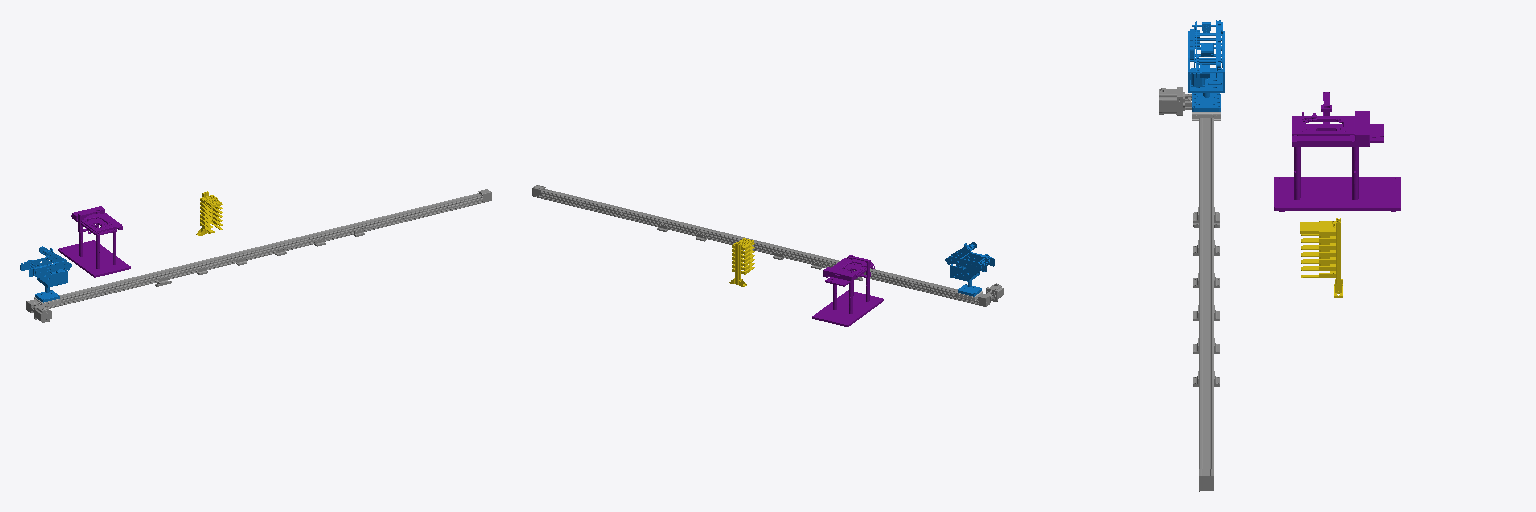
robot.urdf — SimulatedLab:
<?xml version="1.0" encoding="utf-8"?>
<!-- This URDF was automatically created by SolidWorks to URDF Exporter! Originally created by [author] ([email redacted]) 
     Commit Version: 1.6.0-4-g7f85cfe  Build Version: 1.6.7995.38578
     For more information, please see http://wiki.ros.org/sw_urdf_exporter -->
<robot
  name="SimulatedLab">
  <link
    name="OpticalTable">
    <inertial>
      <origin
        xyz="0.90651 -0.06459 1.1186"
        rpy="0 0 0" />
      <mass
        value="199.39" />
      <inertia
        ixx="10.566"
        ixy="2.822E-10"
        ixz="-1.278E-10"
        iyy="52.367"
        iyz="-7.1305E-12"
        izz="42.992" />
    </inertial>
    <visual>
      <origin
        xyz="0 0 0"
        rpy="0 0 0" />
      <geometry>
        <mesh
          filename="package://SimulatedLab/meshes/OpticalTable.STL" />
      </geometry>
      <material name="OpticalTableColor">
        <color rgba="0.8 0.8 0.8 1" />
      </material>
    </visual>
    <collision>
      <origin
        xyz="0 0 0"
        rpy="0 0 0" />
      <geometry>
        <mesh
          filename="package://SimulatedLab/meshes/OpticalTable.STL" />
      </geometry>
    </collision>
  </link>
  <link
    name="SlideRail">
    <inertial>
      <origin
        xyz="0.0092792 -0.043093 0.60802"
        rpy="0 0 0" />
      <mass
        value="9.3221" />
      <inertia
        ixx="7.2203"
        ixy="6.5868E-06"
        ixz="2.4777E-07"
        iyy="7.2215"
        iyz="-2.2278E-08"
        izz="0.0048847" />
    </inertial>
    <visual>
      <origin
        xyz="0 0 0"
        rpy="0 0 0" />
      <geometry>
        <mesh
          filename="package://SimulatedLab/meshes/SlideRail.STL" />
      </geometry>
      <material name="SlideRailColor">
        <color rgba="0.6 0.6 0.6 1" />
      </material>
    </visual>
    <collision>
      <origin
        xyz="0 0 0"
        rpy="0 0 0" />
      <geometry>
        <mesh
          filename="package://SimulatedLab/meshes/SlideRail.STL" />
      </geometry>
    </collision>
  </link>
  <joint
    name="rail-fix"
    type="fixed">
    <origin
      xyz="0.14169 -1.1751 0.052089"
      rpy="-1.5708 0 -1.5708" />
    <parent
      link="OpticalTable" />
    <child
      link="SlideRail" />
    <axis
      xyz="0 0 0" />
  </joint>
  <link
    name="SlideBrick">
    <inertial>
      <origin
        xyz="-0.0043089 0.040587 0.072566"
        rpy="0 0 0" />
      <mass
        value="0.41998" />
      <inertia
        ixx="0.00051075"
        ixy="1.166E-06"
        ixz="2.9612E-10"
        iyy="0.0010393"
        iyz="-1.1349E-09"
        izz="0.00060887" />
    </inertial>
    <visual>
      <origin
        xyz="0 0 0"
        rpy="0 0 0" />
      <geometry>
        <mesh
          filename="package://SimulatedLab/meshes/SlideBrick.STL" />
      </geometry>
      <material name="SlideBrickColor">
        <color rgba="0.7 0.7 0.7 1" />
      </material>
    </visual>
    <collision>
      <origin
        xyz="0 0 0"
        rpy="0 0 0" />
      <geometry>
        <mesh
          filename="package://SimulatedLab/meshes/SlideBrick.STL" />
      </geometry>
    </collision>
  </link>
  <joint
    name="Slide"
    type="prismatic">
    <origin
      xyz="0.0041396 -0.033447 -0.7972"
      rpy="3.1416 0 0" />
    <parent
      link="SlideRail" />
    <child
      link="SlideBrick" />
    <axis
      xyz="0 0 1" />
    <limit
      lower="-3.5"
      upper="0"
      effort="0"
      velocity="0" />
  </joint>
  <link
    name="Rail-Robot-connector">
    <inertial>
      <origin
        xyz="8.9813E-05 0.011003 -0.00012483"
        rpy="0 0 0" />
      <mass
        value="0.55039" />
      <inertia
        ixx="0.00066968"
        ixy="1.4513E-07"
        ixz="-1.9344E-06"
        iyy="0.0015558"
        iyz="-2.0364E-07"
        izz="0.00091884" />
    </inertial>
    <visual>
      <origin
        xyz="0 0 0"
        rpy="0 0 0" />
      <geometry>
        <mesh
          filename="package://SimulatedLab/meshes/Rail-Robot-connector.STL" />
      </geometry>
      <material name="DornaArmColor">
        <color rgba="0.1 0.5 0.8 1" />
      </material>
    </visual>

  </link>
  <joint
    name="Rail-Robot-connector-fix"
    type="fixed">
    <origin
      xyz="-0.0041396 0.055847 0.072641"
      rpy="0 1.5708 0" />
    <parent
      link="SlideBrick" />
    <child
      link="Rail-Robot-connector" />
    <axis
      xyz="0 0 0" />
  </joint>
  <link
    name="arm-base">
    <inertial>
      <origin
        xyz="-0.0013781 0.062393 -0.049951"
        rpy="0 0 0" />
      <mass
        value="0.17228" />
      <inertia
        ixx="8.7832E-05"
        ixy="1.6836E-07"
        ixz="2.0372E-07"
        iyy="0.00015376"
        iyz="5.3127E-07"
        izz="8.8824E-05" />
    </inertial>
    <visual>
      <origin
        xyz="0 0 0"
        rpy="0 0 0" />
      <geometry>
        <mesh
          filename="package://SimulatedLab/meshes/arm-base.STL" />
      </geometry>
      <material name="DornaArmColor">
        <color rgba="0.1 0.5 0.8 1" />
      </material>
    </visual>
    
    <collision>
      <origin
        xyz="0 0 0"
        rpy="0 0 0" />
      <geometry>
        <mesh
          filename="package://SimulatedLab/meshes/arm-base.STL" />
      </geometry>
    </collision>

  </link>
  <joint
    name="armbaseJ"
    type="fixed">
    <origin
      xyz="0.0019527 -0.0078131 0.051373"
      rpy="0 0 0" />
    <parent
      link="Rail-Robot-connector" />
    <child
      link="arm-base" />
    <axis
      xyz="0 0 0" />
  </joint>
  <link
    name="arm1">
    <inertial>
      <origin
        xyz="0.0068555 0.11306 -0.031936"
        rpy="0 0 0" />
      <mass
        value="0.67527" />
      <inertia
        ixx="0.0020205"
        ixy="2.1595E-06"
        ixz="-1.2854E-05"
        iyy="0.0019142"
        iyz="-0.00044896"
        izz="0.00084524" />
    </inertial>
    <visual>
      <origin
        xyz="0 0 0"
        rpy="0 0 0" />
      <geometry>
        <mesh
          filename="package://SimulatedLab/meshes/arm1.STL" />
      </geometry>
      <material name="DornaArmColor">
        <color rgba="0.1 0.5 0.8 1" />
      </material>
    </visual>
    <collision>
      <origin
        xyz="0 0 0"
        rpy="0 0 0" />
      <geometry>
        <mesh
          filename="package://SimulatedLab/meshes/arm1.STL" />
      </geometry>
    </collision>
  </link>
  <joint
    name="arm1J"
    type="revolute">
    <origin
      xyz="-0.0019527 0.047214 -0.051373"
      rpy="1.5708 -1.5708 -1.5708" />
    <parent
      link="arm-base" />
    <child
      link="arm1" />
    <axis
      xyz="0 1 0" />
    <limit
      lower="-180"
      upper="180"
      effort="0"
      velocity="0" />
  </joint>
  <link
    name="arm2">
    <inertial>
      <origin
        xyz="0.0093492 0.050968 -6.2717E-06"
        rpy="0 0 0" />
      <mass
        value="0.27168" />
      <inertia
        ixx="0.0013356"
        ixy="-1.0161E-08"
        ixz="1.0591E-11"
        iyy="0.00010987"
        iyz="-8.797E-09"
        izz="0.0012912" />
    </inertial>
    <visual>
      <origin
        xyz="0 0 0"
        rpy="0 0 0" />
      <geometry>
        <mesh
          filename="package://SimulatedLab/meshes/arm2.STL" />
      </geometry>
      <material name="DornaArmColor">
        <color rgba="0.1 0.5 0.8 1" />
      </material>
    </visual>

  </link>
  <joint
    name="arm2J"
    type="revolute">
    <origin
      xyz="0 0.19707 0.095476"
      rpy="-1.5675 0 0" />
    <parent
      link="arm1" />
    <child
      link="arm2" />
    <axis
      xyz="1 0 0" />
    <limit
      lower="-180"
      upper="180"
      effort="0"
      velocity="0" />
  </joint>
  <link
    name="arm3">
    <inertial>
      <origin
        xyz="-0.0034044 -5.1122E-06 0.03101"
        rpy="0 0 0" />
      <mass
        value="0.29344" />
      <inertia
        ixx="0.00057371"
        ixy="-3.2473E-09"
        ixz="2.2346E-06"
        iyy="0.00054217"
        iyz="3.7859E-09"
        izz="6.7363E-05" />
    </inertial>
    <visual>
      <origin
        xyz="0 0 0"
        rpy="0 0 0" />
      <geometry>
        <mesh
          filename="package://SimulatedLab/meshes/arm3.STL" />
      </geometry>
      <material name="DornaArmColor">
        <color rgba="0.1 0.5 0.8 1" />
      </material>
    </visual>

  </link>
  <joint
    name="arm3J"
    type="revolute">
    <origin
      xyz="0 0.2032 0"
      rpy="0.89363 0 0" />
    <parent
      link="arm2" />
    <child
      link="arm3" />
    <axis
      xyz="1 0 0" />
    <limit
      lower="-180"
      upper="180"
      effort="0"
      velocity="0" />
  </joint>
  <link
    name="wrist1">
    <inertial>
      <origin
        xyz="-5.1119E-05 5.5335E-07 3.3649E-05"
        rpy="0 0 0" />
      <mass
        value="0.019467" />
      <inertia
        ixx="1.9403E-06"
        ixy="-2.6043E-12"
        ixz="3.7257E-11"
        iyy="5.5184E-06"
        iyz="1.4992E-08"
        izz="6.4217E-06" />
    </inertial>
    <visual>
      <origin
        xyz="0 0 0"
        rpy="0 0 0" />
      <geometry>
        <mesh
          filename="package://SimulatedLab/meshes/wrist1.STL" />
      </geometry>
        <material name="DornaArmColor">
        <color rgba="0.1 0.5 0.8 1" />
      </material>
    </visual>
    <collision>
      <origin
        xyz="0 0 0"
        rpy="0 0 0" />
      <geometry>
        <mesh
          filename="package://SimulatedLab/meshes/wrist1.STL" />
      </geometry>
    </collision>
  </link>
  <joint
    name="arm-wrist"
    type="revolute">
    <origin
      xyz="0 0 0.1524"
      rpy="2.35 0 3.1416" />
    <parent
      link="arm3" />
    <child
      link="wrist1" />
    <axis
      xyz="1 0 0" />
    <limit
      lower="-180"
      upper="180"
      effort="0"
      velocity="0" />
  </joint>
  <link
    name="wrist2">
    <inertial>
      <origin
        xyz="-9.7487E-05 0.0011324 0.03436"
        rpy="0 0 0" />
      <mass
        value="0.010769" />
      <inertia
        ixx="3.7831E-06"
        ixy="-6.8973E-13"
        ixz="-2.093E-12"
        iyy="3.859E-06"
        iyz="-1.1375E-07"
        izz="8.956E-07" />
    </inertial>
    <visual>
      <origin
        xyz="0 0 0"
        rpy="0 0 0" />
      <geometry>
        <mesh
          filename="package://SimulatedLab/meshes/wrist2.STL" />
      </geometry>
      <material name="DornaArmColor">
        <color rgba="0.1 0.5 0.8 1" />
      </material>
    </visual>
    <collision>
      <origin
        xyz="0 0 0"
        rpy="0 0 0" />
      <geometry>
        <mesh
          filename="package://SimulatedLab/meshes/wrist2.STL" />
      </geometry>
    </collision>
  </link>
  <joint
    name="wrist2-j"
    type="revolute">
    <origin
      xyz="0 0 0"
      rpy="0 0 0" />
    <parent
      link="wrist1" />
    <child
      link="wrist2" />
    <axis
      xyz="0 0.016592 0.99986" />
    <limit
      lower="-180"
      upper="180"
      effort="0"
      velocity="0" />
    <mimic
      joint="arm1J"
      multiplier="1"
      offset="0" />
  </joint>
  <link
    name="SquidMicroscope">
    <inertial>
      <origin
        xyz="0.0005327 0.10804 -0.0085527"
        rpy="0 0 0" />
      <mass
        value="3.6417" />
      <inertia
        ixx="0.052832"
        ixy="-3.9904E-06"
        ixz="-0.00028322"
        iyy="0.067318"
        iyz="6.7962E-07"
        izz="0.019526" />
    </inertial>
    <visual>
      <origin
        xyz="0 0 0"
        rpy="0 0 0" />
      <geometry>
        <mesh
          filename="package://SimulatedLab/meshes/SquidMicroscope.STL" />
      </geometry>
     <material name="SquidMicroscopeColor">
        <color rgba="0.5 0.1 0.6 1" />
      </material>
    </visual>
    <collision>
      <origin
        xyz="0 0 0"
        rpy="0 0 0" />
      <geometry>
        <mesh
          filename="package://SimulatedLab/meshes/SquidMicroscope.STL" />
      </geometry>
    </collision>
  </link>
  <joint
    name="microscope-fix"
    type="fixed">
    <origin
      xyz="-0.073823 -0.66731 0.059932"
      rpy="1.5708 0 3.1416" />
    <parent
      link="OpticalTable" />
    <child
      link="SquidMicroscope" />
    <axis
      xyz="0 0 0" />
  </joint>
  <link
    name="MicroplateHolder">
    <inertial>
      <origin
        xyz="0 0 0"
        rpy="0 0 0" />
      <mass
        value="0" />
      <inertia
        ixx="0"
        ixy="0"
        ixz="0"
        iyy="0"
        iyz="0"
        izz="0" />
    </inertial>
    <visual>
      <origin
        xyz="0 0 0"
        rpy="0 0 0" />
      <geometry>
        <mesh
          filename="package://SimulatedLab/meshes/MicroplateHolder.STL" />
      </geometry>
      <material name="MicroplateHolderColor">
        <color rgba="0.9 0.8 0.1 1" />
      </material>
    </visual>
    <collision>
      <origin
        xyz="0 0 0"
        rpy="0 0 0" />
      <geometry>
        <mesh
          filename="package://SimulatedLab/meshes/MicroplateHolder.STL" />
      </geometry>
    </collision>
  </link>
  <joint
    name="hotel-fix"
    type="fixed">
    <origin
      xyz="0.818329937973544 -0.725482308658135 0.129836500776815"
      rpy="1.5707963267949 0 0" />
    <parent
      link="OpticalTable" />
    <child
      link="MicroplateHolder" />
    <axis
      xyz="0 0 0" />
  </joint>
</robot>

--- Render facts (derived) ---
3 views of the same robot in one strip: view 1: azimuth 30°, elevation 25°; view 2: azimuth 150°, elevation 25°; view 3: azimuth 270°, elevation 25° (orthographic).
Model SimulatedLab with 12 links and 11 joints (5 revolute, 1 prismatic, 5 fixed), rooted at OpticalTable, posed every joint at zero.
Links seen in each view (by area): view 1: SlideRail, SquidMicroscope, MicroplateHolder; view 2: SlideRail, SquidMicroscope, MicroplateHolder; view 3: SquidMicroscope, SlideRail, MicroplateHolder, arm1, arm3.
Link boxes in pixels (x1=…): SlideRail: x1=26, y1=189, x2=491, y2=322; SquidMicroscope: x1=58, y1=206, x2=130, y2=277; MicroplateHolder: x1=196, y1=191, x2=222, y2=235; SlideRail: x1=532, y1=185, x2=1003, y2=306; SquidMicroscope: x1=812, y1=255, x2=883, y2=326; MicroplateHolder: x1=729, y1=238, x2=754, y2=286; SquidMicroscope: x1=1274, y1=92, x2=1400, y2=211; SlideRail: x1=1159, y1=87, x2=1219, y2=491; MicroplateHolder: x1=1300, y1=218, x2=1342, y2=297; arm1: x1=1188, y1=31, x2=1224, y2=97; arm3: x1=1195, y1=20, x2=1222, y2=77.
Bounding box of the posed robot: 3.56 × 0.937 × 0.445 m (x, y, z).
Meshes: 12 distinct files referenced, 10 mesh visuals loaded (10 binary STL); not drawn: 2 (reference not matched to a file when rendering).